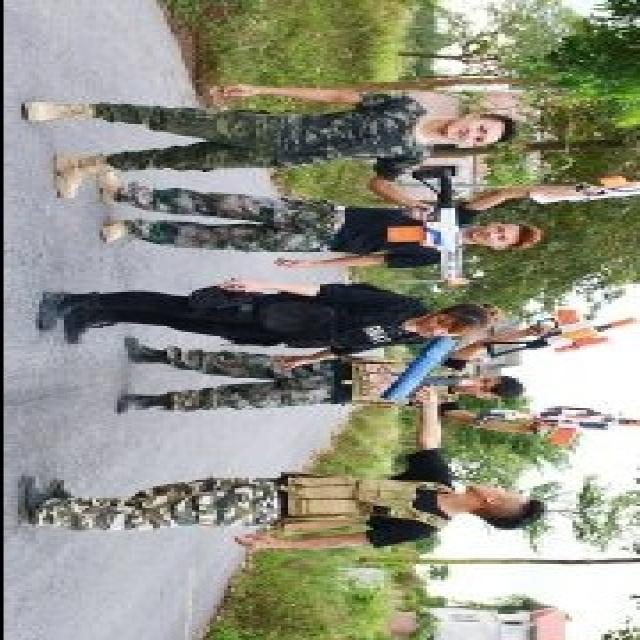Nerf gun: (384, 153, 476, 295), (476, 303, 640, 365), (469, 393, 640, 451), (380, 327, 473, 409), (514, 165, 638, 207)
